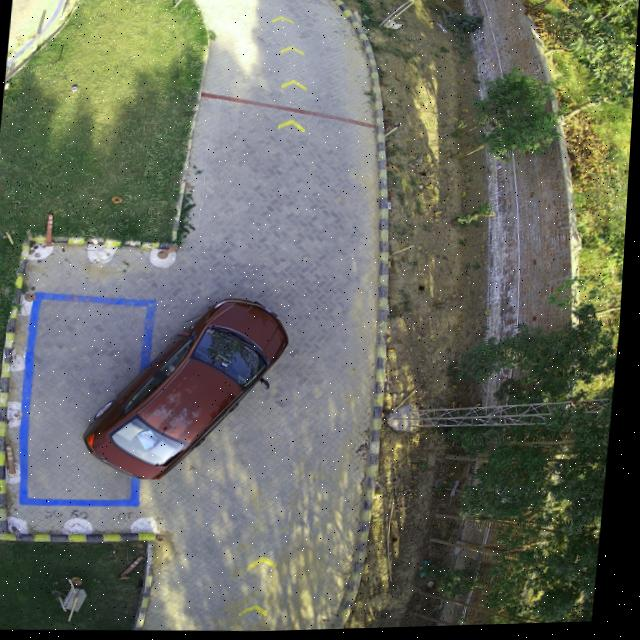car: (90, 299, 291, 480)
